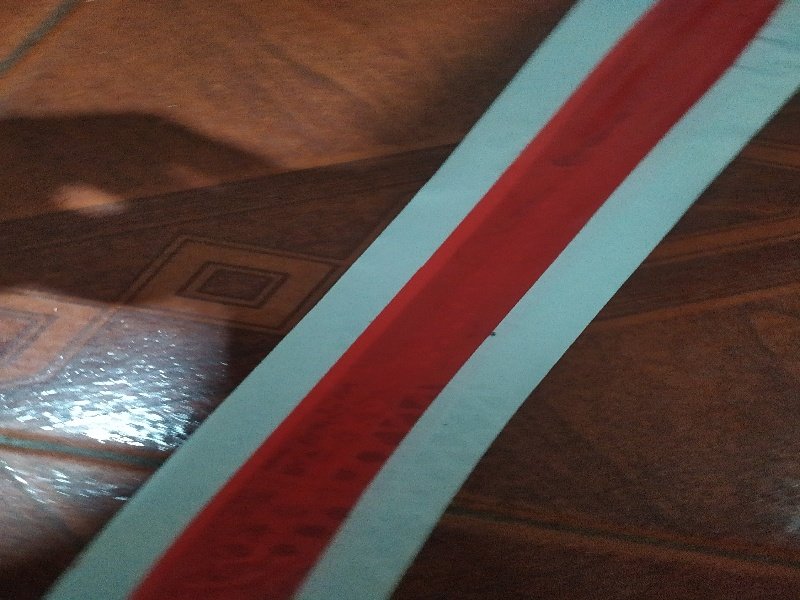saindoEsquerda: (17, 1, 800, 594)
